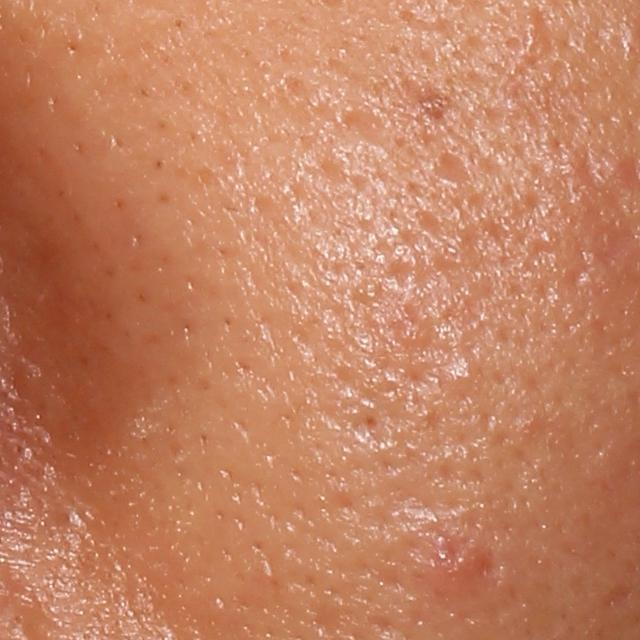atrophic_scar: (560, 204, 637, 297), (341, 108, 387, 143), (430, 151, 473, 188), (598, 583, 636, 612)
